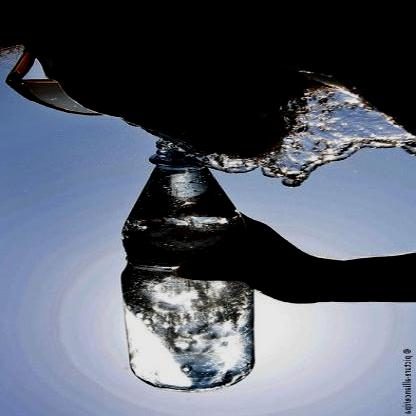bottle: (88, 135, 318, 400)
